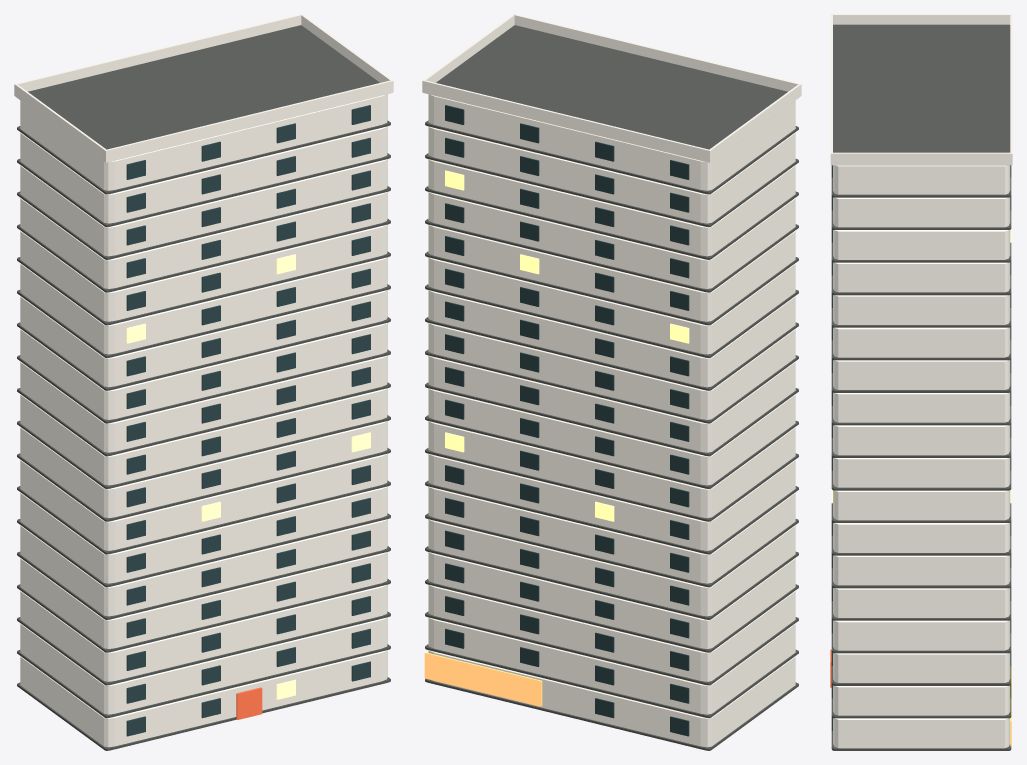
The model's file is building-hero.glb.
The picture shows the model from 3 angles, left to right: view 1: azimuth 30°, elevation 25°; view 2: azimuth 150°, elevation 25°; view 3: azimuth 270°, elevation 25°; orthographic projection.
Visible parts, largest first — view 1: SLAB-ROOF, VIS-SHELL-LVL-17, VIS-SHELL-LVL-05, VIS-SHELL-LVL-03, VIS-SHELL-LVL-06, VIS-SHELL-LVL-15, VIS-SHELL-LVL-02, VIS-SHELL-LVL-07, VIS-SHELL-LVL-11, VIS-SHELL-LVL-08, VIS-SHELL-LVL-10, VIS-SHELL-LVL-12 (+30 smaller); view 2: SLAB-ROOF, VIS-SHELL-LVL-17, VIS-SHELL-LVL-05, VIS-SHELL-LVL-03, VIS-SHELL-LVL-06, VIS-SHELL-LVL-15, VIS-SHELL-LVL-02, VIS-SHELL-LVL-07, VIS-SHELL-LVL-11, VIS-SHELL-LVL-08, VIS-SHELL-LVL-10, VIS-SHELL-LVL-12 (+30 smaller); view 3: SLAB-ROOF, VIS-SHELL-LVL-04, VIS-SHELL-LVL-13, VIS-SHELL-LVL-06, VIS-SHELL-LVL-15, VIS-SHELL-LVL-08, VIS-SHELL-LVL-17, VIS-SHELL-LVL-01, VIS-SHELL-LVL-10, VIS-SHELL-LVL-12, VIS-SHELL-LVL-03, VIS-SHELL-LVL-14 (+29 smaller).
Part boxes in pixels (x1,y1,x2,y2): SLAB-ROOF: (28,25,379,149); VIS-SHELL-LVL-17: (20,126,387,223); VIS-SHELL-LVL-05: (20,519,387,616); VIS-SHELL-LVL-03: (20,584,387,681); VIS-SHELL-LVL-06: (20,486,387,583); VIS-SHELL-LVL-15: (20,192,387,288); VIS-SHELL-LVL-02: (20,617,387,714); VIS-SHELL-LVL-07: (20,453,387,550); VIS-SHELL-LVL-11: (20,323,387,419); VIS-SHELL-LVL-08: (20,421,387,518); VIS-SHELL-LVL-10: (20,355,387,452); VIS-SHELL-LVL-12: (20,290,387,387); SLAB-ROOF: (436,25,787,149); VIS-SHELL-LVL-17: (428,126,795,223); VIS-SHELL-LVL-05: (428,519,795,616); VIS-SHELL-LVL-03: (428,584,795,681); VIS-SHELL-LVL-06: (428,486,795,583); VIS-SHELL-LVL-15: (428,192,795,288); VIS-SHELL-LVL-02: (428,617,795,714); VIS-SHELL-LVL-07: (428,453,795,550); VIS-SHELL-LVL-11: (428,323,795,419); VIS-SHELL-LVL-08: (428,421,795,518); VIS-SHELL-LVL-10: (428,355,795,452); VIS-SHELL-LVL-12: (428,290,795,387); SLAB-ROOF: (833,24,1010,152); VIS-SHELL-LVL-04: (833,620,1010,650); VIS-SHELL-LVL-13: (833,327,1010,357); VIS-SHELL-LVL-06: (833,555,1010,585); VIS-SHELL-LVL-15: (833,262,1010,292); VIS-SHELL-LVL-08: (833,490,1010,520); VIS-SHELL-LVL-17: (833,197,1010,227); VIS-SHELL-LVL-01: (833,718,1010,748); VIS-SHELL-LVL-10: (833,425,1010,455); VIS-SHELL-LVL-12: (833,360,1010,389); VIS-SHELL-LVL-03: (833,653,1010,682); VIS-SHELL-LVL-14: (833,295,1010,324).
Size of what is drawn, in the model's own units: 27.6 by 55.1 by 15.22.
